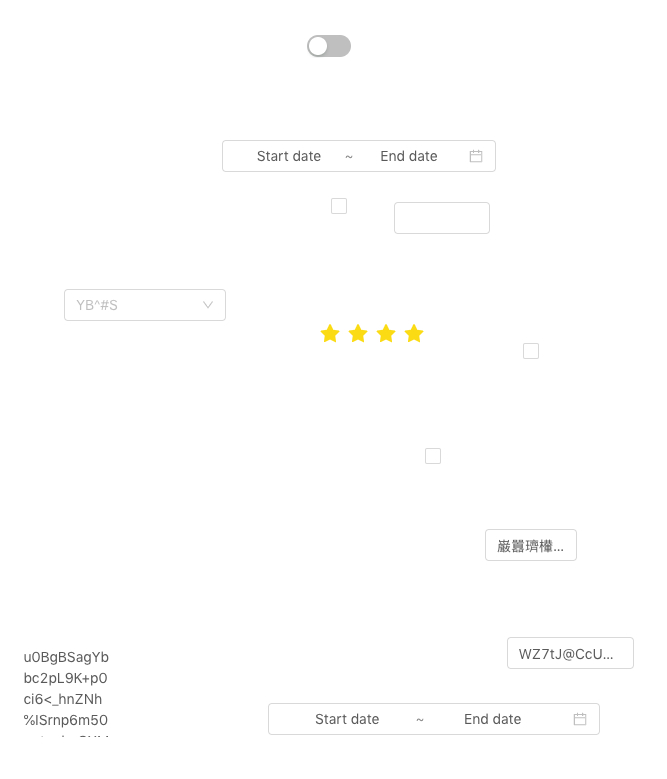Checkbox: (523, 340, 539, 361), (331, 195, 347, 216), (425, 445, 441, 466)
Input: (507, 637, 634, 669), (394, 202, 490, 234), (485, 529, 577, 561)
RangePicker: (268, 703, 603, 735), (222, 140, 496, 172)
Rate: (320, 317, 440, 349)
Select: (64, 289, 226, 321)
Switch: (307, 34, 351, 58)
Text: (24, 646, 113, 737)
